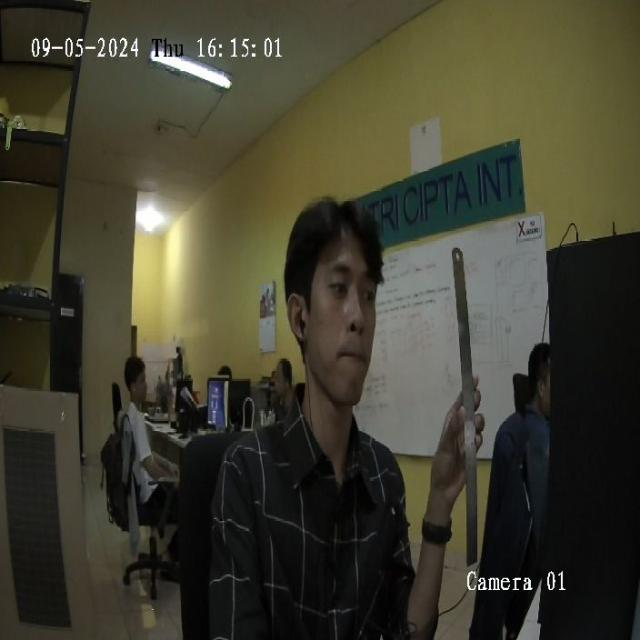Ruler: (453, 248, 477, 564)
